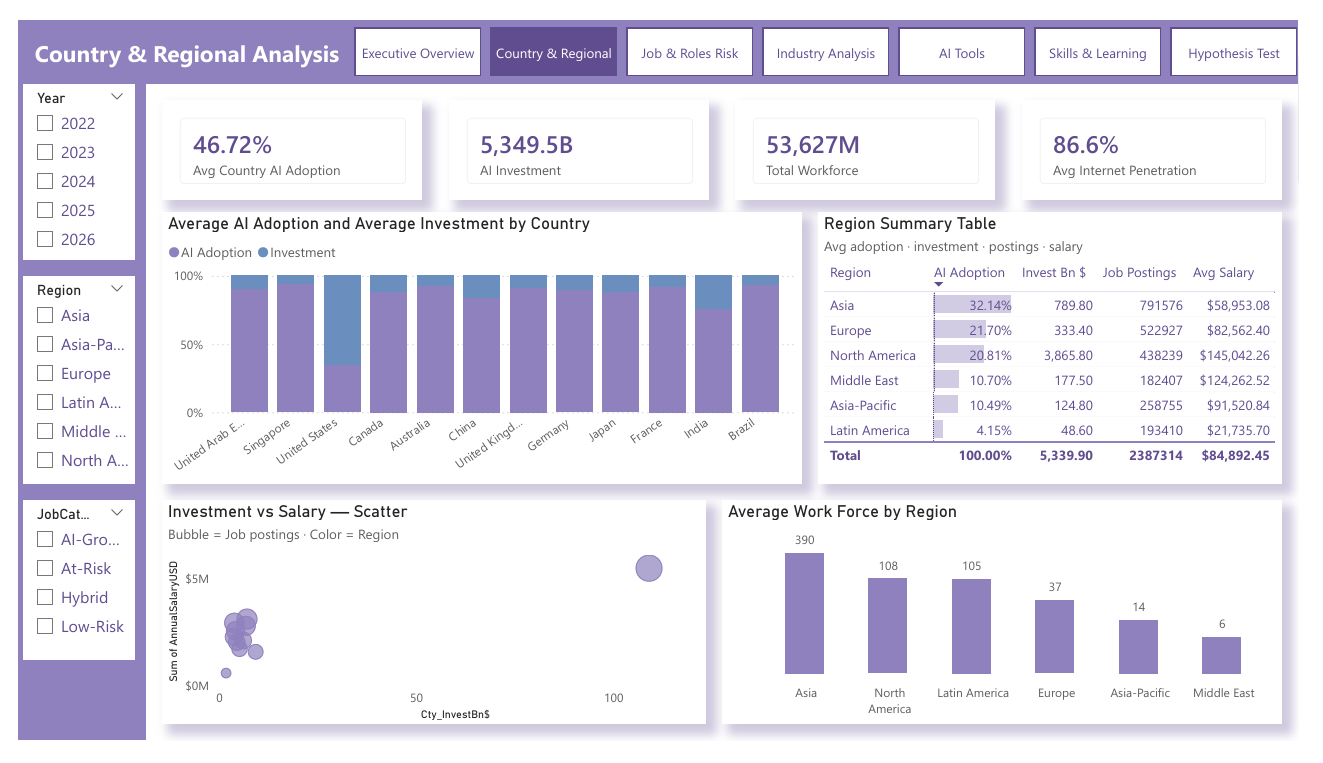

Layout of this report page (visuals, bound fields, positions):
{"tool":"powerbi","page":{"name":"Country & Regional","canvas":[1280,720],"ordinal":1},"visuals":[{"type":"shape","box":[0,0,1280,64],"z":0},{"type":"shape","box":[0,64,128,656],"z":1000},{"type":"cardVisual","fields":{"Data":["Measure.Avg Country AI Adoption"]},"box":[144,80,260,100],"z":2000},{"type":"cardVisual","fields":{"Data":["Measure.AI Investment"]},"box":[430.7,80,260,100],"z":3000},{"type":"cardVisual","fields":{"Data":["Measure.Total Workforce"]},"box":[717.3,80,260,100],"z":4000},{"type":"cardVisual","fields":{"Data":["Measure.Avg Internet Penetration"]},"box":[1004,80,260,100],"z":5000},{"type":"hundredPercentStackedColumnChart","title":"Average AI Adoption and Average Investment by Country","fields":{"Category":["Fact_JobsAI.CountryName"],"Y":["Avg(Fact_JobsAI.Cty_AIAdoption%)","Avg(Fact_JobsAI.Cty_InvestBn$)"]},"box":[144,192,640,272],"z":6000},{"type":"scatterChart","title":"Investment vs Salary — Scatter","fields":{"X":["Fact_JobsAI.Cty_InvestBn$"],"Y":["Sum(Fact_JobsAI.AnnualSalaryUSD)"],"Size":["Sum(Fact_JobsAI.AnnualSalaryUSD)"]},"box":[144,480,544,224],"z":7000},{"type":"tableEx","title":"Region Summary Table","fields":{"Values":["Fact_JobsAI.Region","Sum(Fact_JobsAI.Cty_AIAdoption%)","Sum(Fact_JobsAI.Cty_InvestBn$)","Sum(Fact_JobsAI.JobPostingsCount)","Avg(Fact_JobsAI.AnnualSalaryUSD)"]},"box":[800,192,464,272],"z":8000},{"type":"clusteredColumnChart","title":"Average Work Force by Region","fields":{"Category":["Fact_JobsAI.Region"],"Y":["Avg(Fact_JobsAI.Cty_WorkforceM)"]},"box":[704,480,560,224],"z":9000},{"type":"slicer","fields":{"Values":["Dim_Date.Year"]},"box":[5,64,112,176],"z":10000},{"type":"slicer","fields":{"Values":["Fact_JobsAI.Region"]},"box":[5,256,112,208],"z":11000},{"type":"slicer","fields":{"Values":["Fact_JobsAI.JobCategory"]},"box":[5,480,112,160],"z":12000},{"type":"shape","box":[0,0,336,64],"z":14000},{"type":"pageNavigator","box":[336,7,944,48],"z":14001}]}

Visuals, with their boxes in screenshot pixels (x1, y1, x2, y2), scaled from the page's 1280x720 canvas onto the 1323x763 screenshot:
shape: (0,0,1322,68)
shape: (0,68,132,762)
cardVisual - Measure.Avg Country AI Adoption: (149,85,418,191)
cardVisual - Measure.AI Investment: (445,85,714,191)
cardVisual - Measure.Total Workforce: (741,85,1010,191)
cardVisual - Measure.Avg Internet Penetration: (1038,85,1306,191)
"Average AI Adoption and Average Investment by Country" hundredPercentStackedColumnChart: (149,203,810,492)
"Investment vs Salary — Scatter" scatterChart: (149,509,711,746)
"Region Summary Table" tableEx: (827,203,1306,492)
"Average Work Force by Region" clusteredColumnChart: (728,509,1306,746)
slicer - Dim_Date.Year: (5,68,121,254)
slicer - Fact_JobsAI.Region: (5,271,121,492)
slicer - Fact_JobsAI.JobCategory: (5,509,121,678)
shape: (0,0,347,68)
pageNavigator: (347,7,1322,58)
